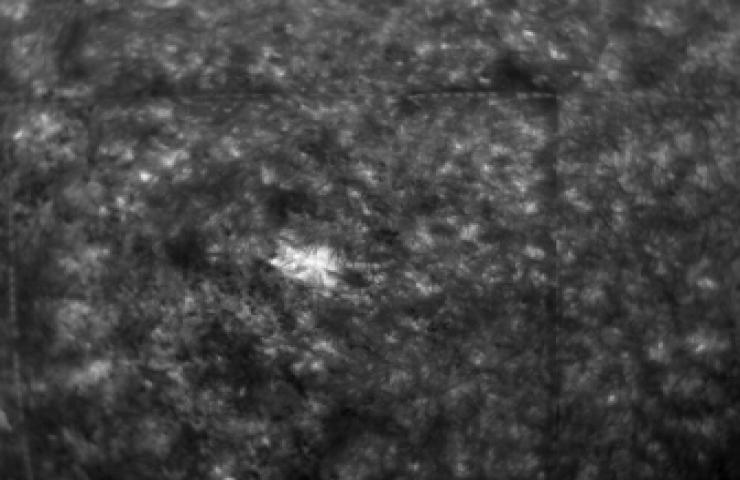landmines: (266, 232, 349, 293)
